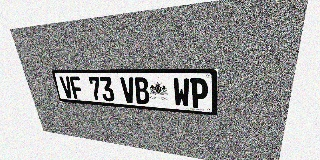3: (99, 77, 115, 102)
7: (87, 77, 103, 101)
B: (133, 77, 150, 104)
F: (69, 76, 84, 99)
P: (190, 78, 208, 109)
V: (120, 77, 136, 103), (59, 76, 74, 99)
W: (173, 78, 190, 107)
